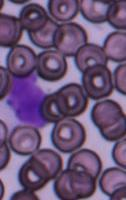M: (3, 70, 49, 128)
